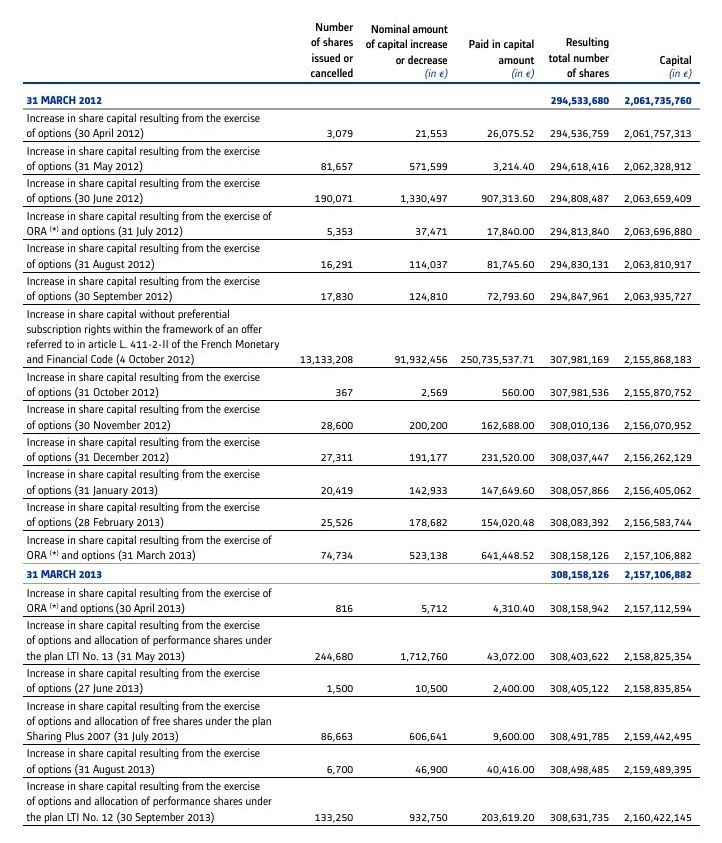table: (0, 0, 722, 843)
